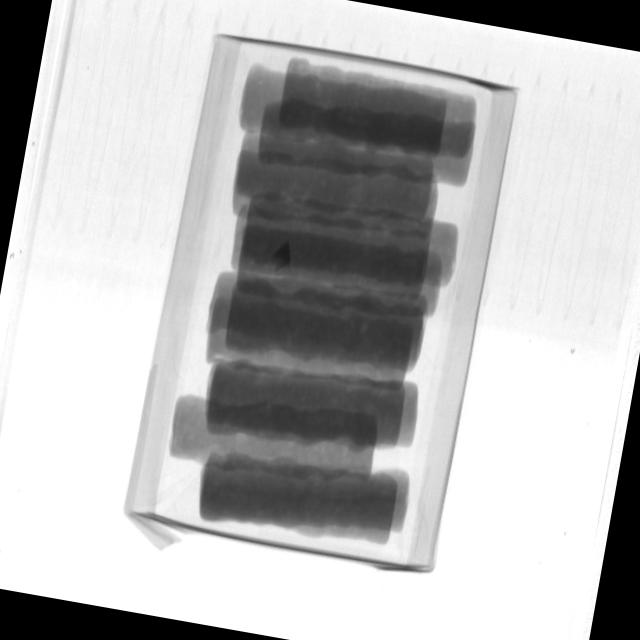ym: (270, 241, 296, 277)
